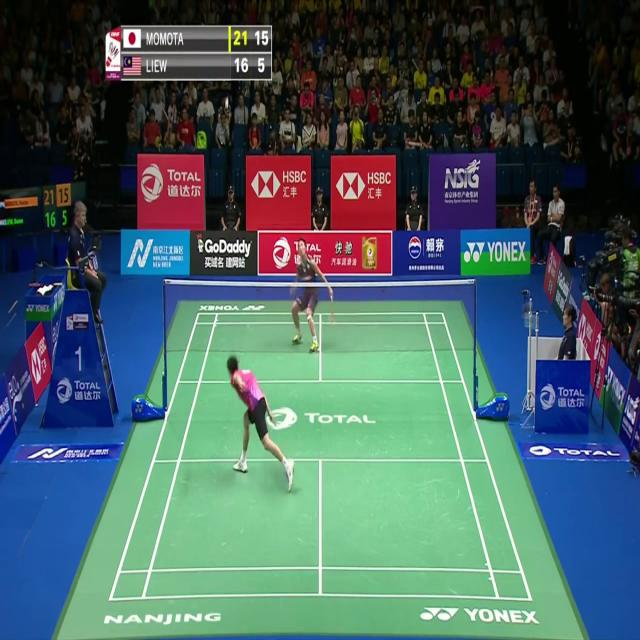Shuttlecock: (223, 96, 230, 108)
